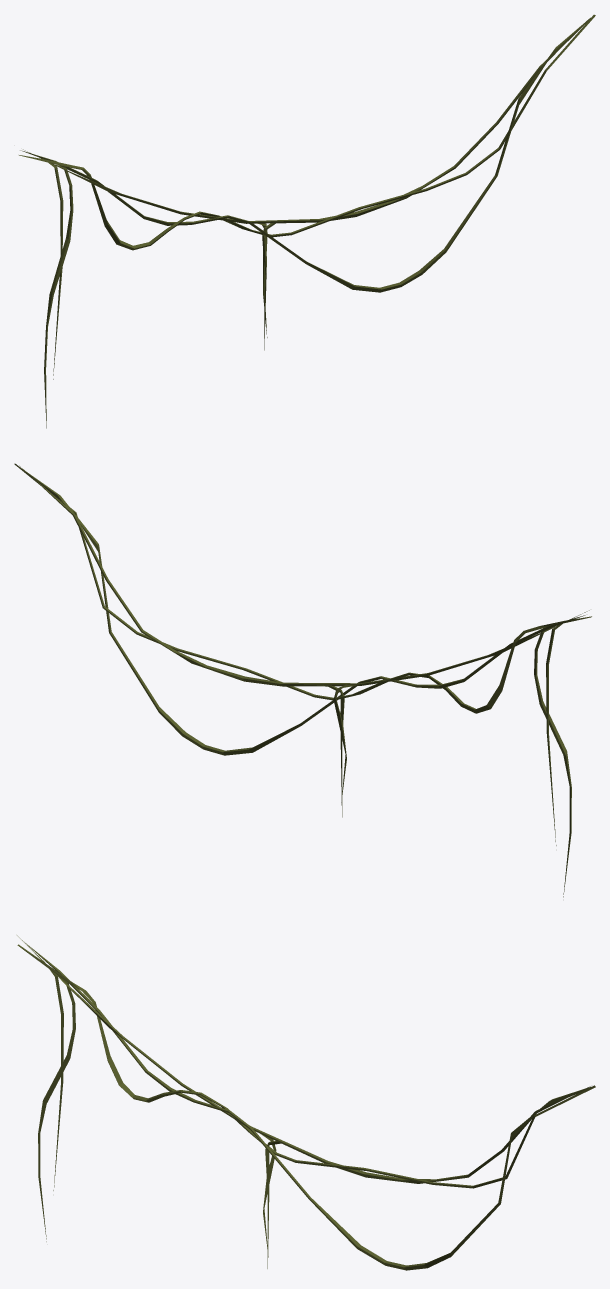
The model's file is Vines_02.glb.
3 views of the same model, one above another, from view 1: azimuth 30°, elevation 25°; view 2: azimuth 150°, elevation 25°; view 3: azimuth 330°, elevation 25° (orthographic). The views are drawn at different scales.
Parts seen in each view (by area): view 1: Vines_02; view 2: Vines_02; view 3: Vines_02.
Boxes of the visible parts, box(x1,y1,x2,y2) form: Vines_02: box(19, 14, 595, 428); Vines_02: box(14, 463, 591, 897); Vines_02: box(17, 935, 595, 1270).
Bounding box in the file's own units: 6.02 × 2.98 × 0.2606.
Materials: 1 (1 with a texture image).
